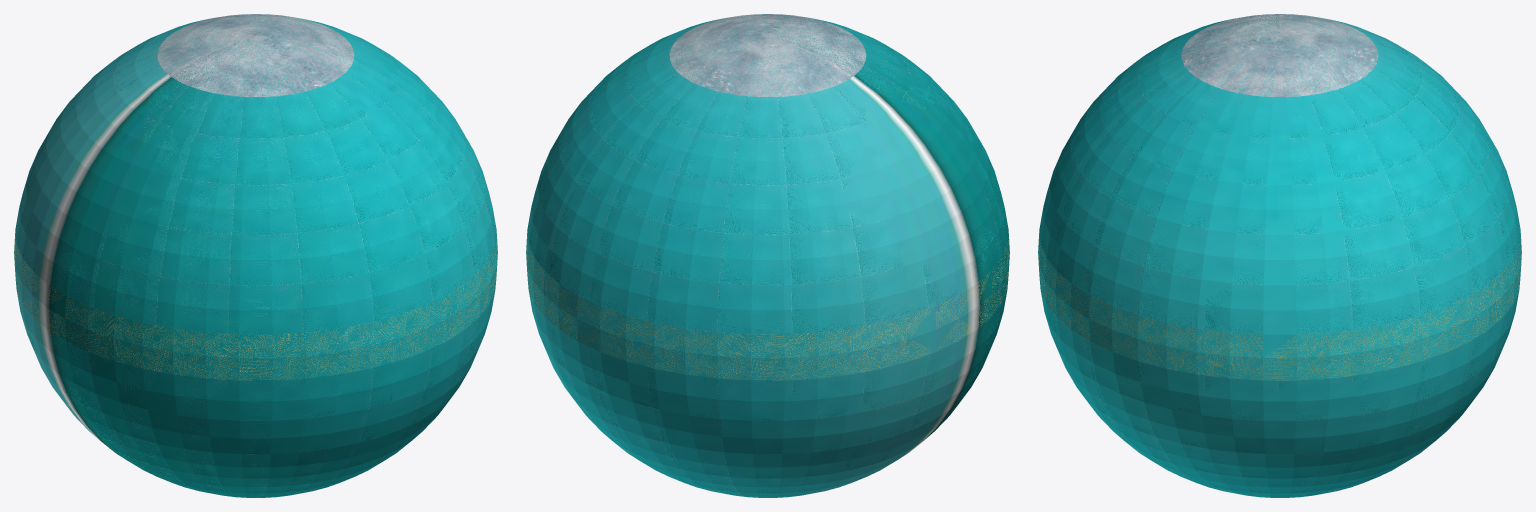
Rendered from Marblius.fbx.
3 renders of one model, left to right at view 1: azimuth 30°, elevation 25°; view 2: azimuth 150°, elevation 25°; view 3: azimuth 270°, elevation 25°, orthographic.
Parts seen in each view (by area): view 1: Col, Planet, 1IceCap, Sand; view 2: Col, Planet, 1IceCap, Sand; view 3: Col, Planet, 1IceCap, Sand.
Boxes of the visible parts, x1=… form: Col: x1=14, y1=14, x2=497, y2=497; Planet: x1=15, y1=19, x2=496, y2=497; 1IceCap: x1=157, y1=14, x2=354, y2=96; Sand: x1=14, y1=233, x2=497, y2=380; Col: x1=526, y1=14, x2=1009, y2=497; Planet: x1=527, y1=21, x2=1007, y2=497; 1IceCap: x1=669, y1=14, x2=866, y2=96; Sand: x1=526, y1=235, x2=1009, y2=379; Col: x1=1038, y1=14, x2=1521, y2=497; Planet: x1=1039, y1=22, x2=1519, y2=497; 1IceCap: x1=1181, y1=14, x2=1378, y2=96; Sand: x1=1038, y1=235, x2=1521, y2=379.
Bounding box in the file's own units: 10.05 × 10.07 × 10.06.
Materials: 3 (3 with a texture image).
